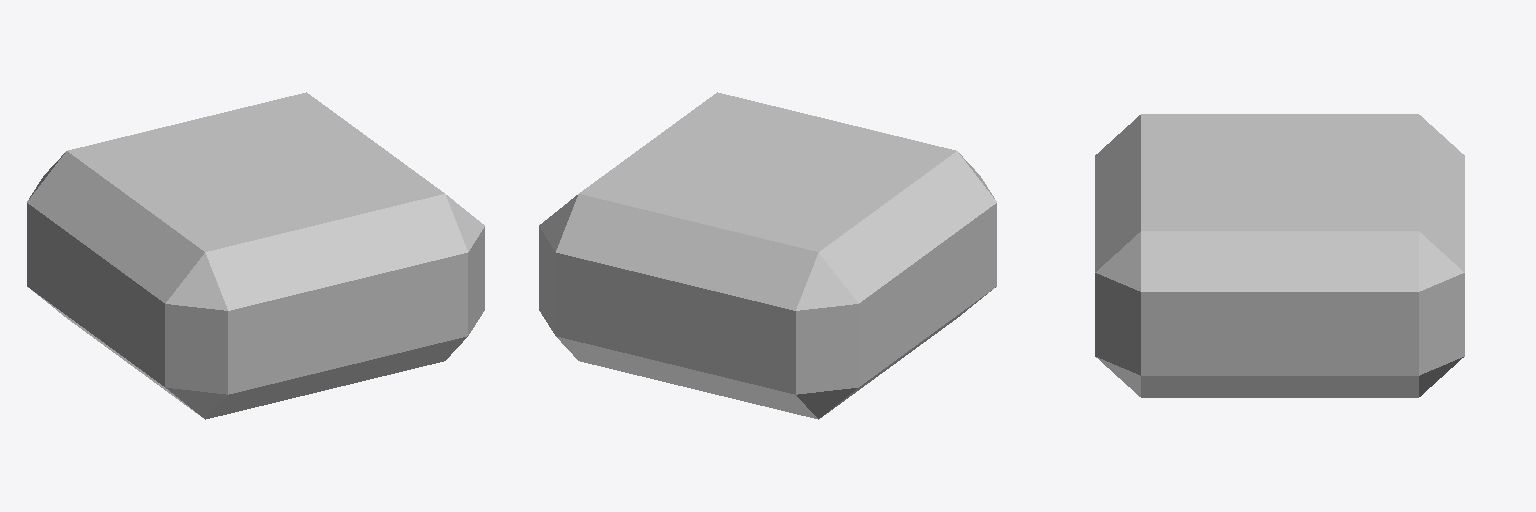
The model's file is cuboid.obj.
3 renders of one model, left to right at view 1: azimuth 30°, elevation 25°; view 2: azimuth 150°, elevation 25°; view 3: azimuth 270°, elevation 25°, orthographic.
Parts seen in each view (by area): view 1: beveled_cuboid; view 2: beveled_cuboid; view 3: beveled_cuboid.
Boxes of the visible parts, x1=… form: beveled_cuboid: x1=27, y1=92, x2=484, y2=419; beveled_cuboid: x1=539, y1=92, x2=996, y2=419; beveled_cuboid: x1=1095, y1=114, x2=1464, y2=397.
Bounding box in the file's own units: 1 × 0.5 × 1.